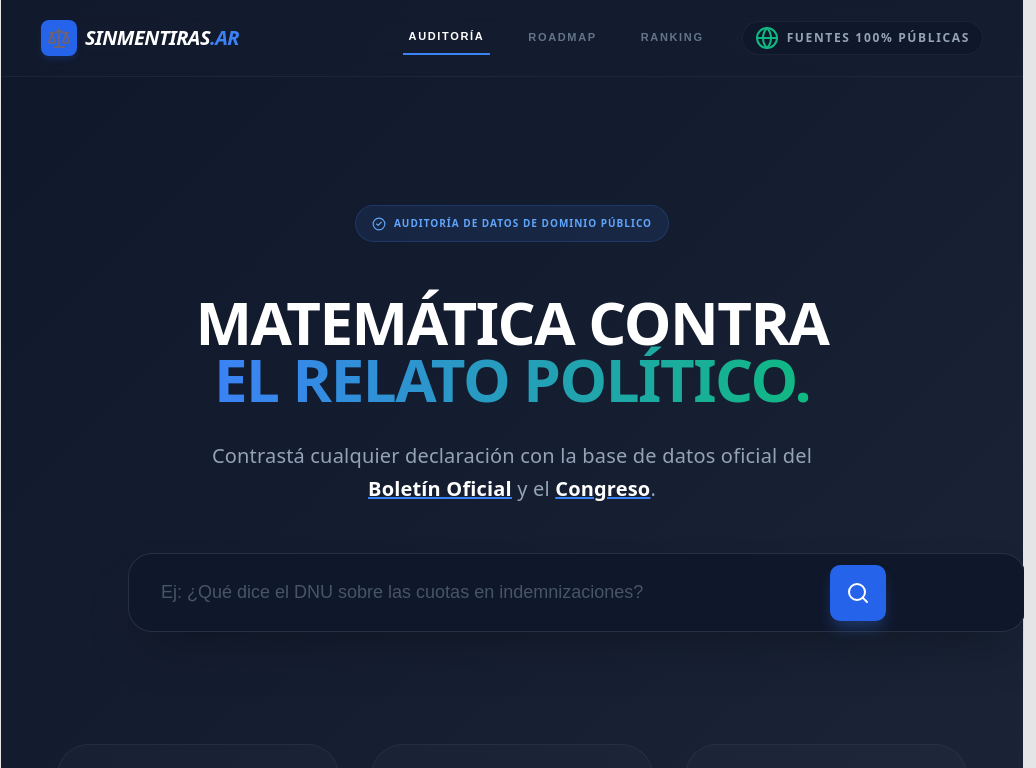
Scenario: App › navega a roadmap desde el nav
What coordinates should you click on to do the following:
click the button "Roadmap"
I would click on:
 (562, 38)
Its box is [522, 21, 603, 55].
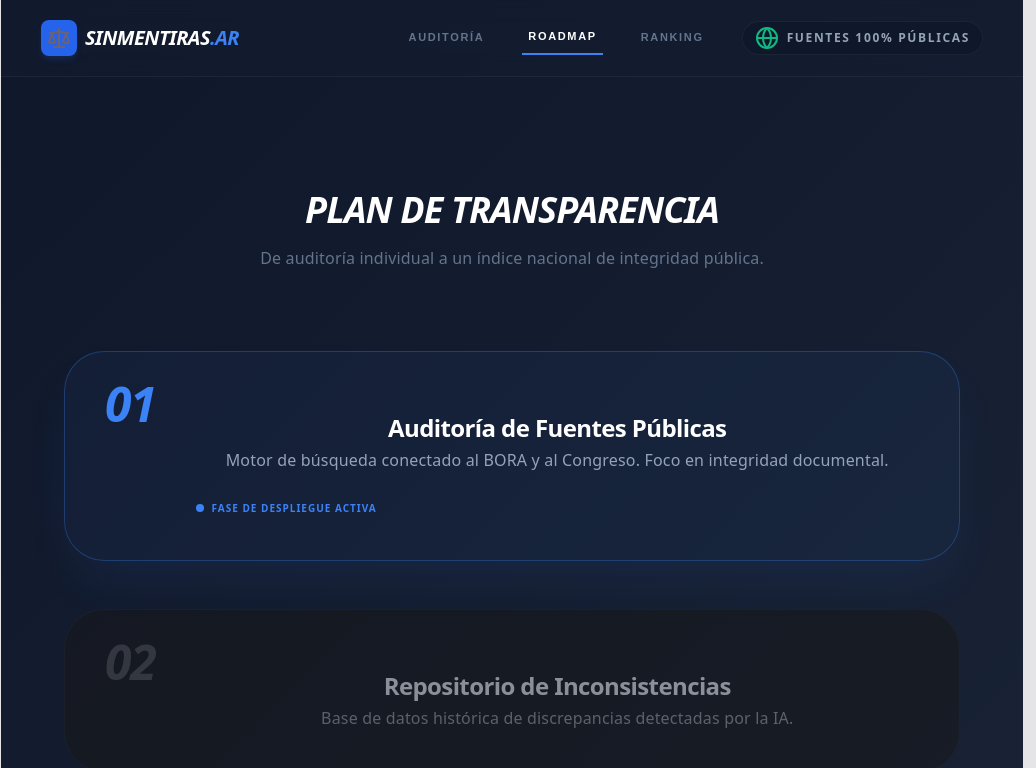
Check: the heading "Plan de Transparencia" is shown, box [305, 185, 719, 234]
